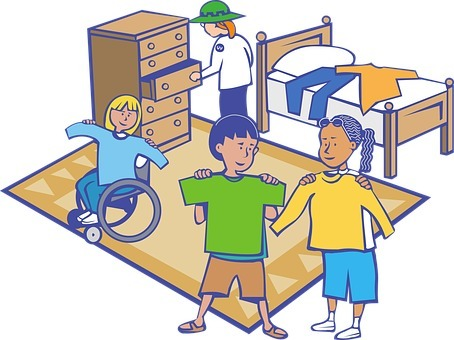person: (185, 112, 285, 338), (296, 109, 382, 337), (73, 89, 169, 228), (186, 2, 262, 116)
